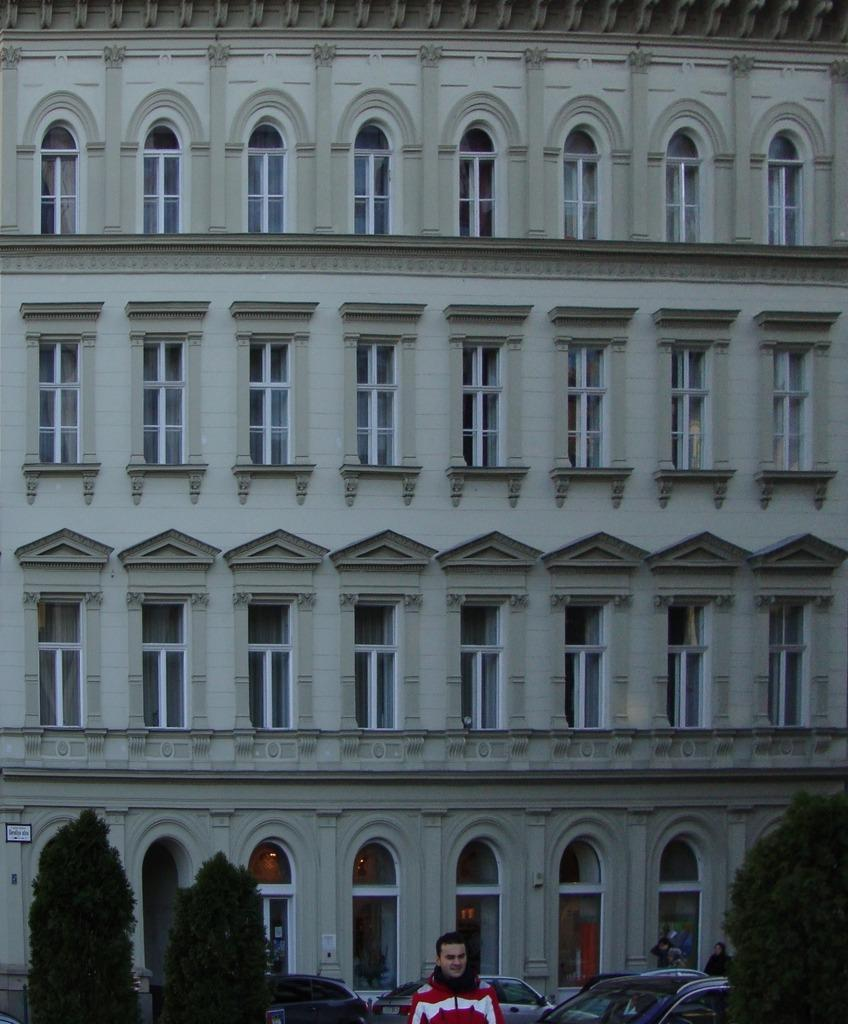window: (566, 595, 615, 731), (38, 593, 87, 728), (143, 594, 192, 729), (250, 595, 299, 730), (356, 595, 405, 730), (461, 595, 510, 730), (667, 596, 716, 731), (770, 597, 818, 729), (248, 340, 292, 465), (145, 339, 188, 465), (463, 344, 506, 470), (772, 346, 815, 472), (356, 342, 399, 467), (567, 346, 610, 471), (670, 346, 713, 471), (40, 341, 83, 462), (459, 118, 500, 236), (564, 122, 605, 240), (665, 127, 706, 245), (355, 118, 396, 235), (767, 129, 808, 246), (42, 120, 80, 235), (144, 118, 181, 234), (249, 118, 286, 234)
